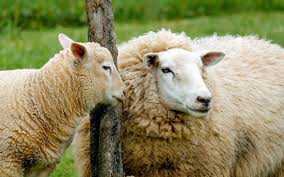koyun: (127, 31, 283, 176), (1, 34, 121, 169)
